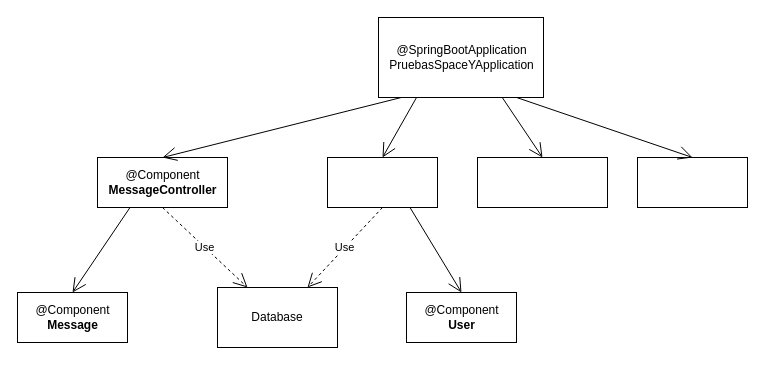
Image size: 765x365. Some labels were removed from this diagram. The shapes that lost their labels are listed below. From the top down, each one's centre as x and y in pixels, then its label:
(382,182): @Component UserController
(542,182): @Bean WsLobbiesHandler
(692,182): @Bean WsGamesHandler
